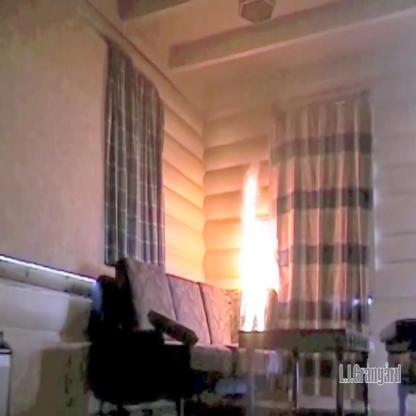fire: (236, 164, 282, 341)
